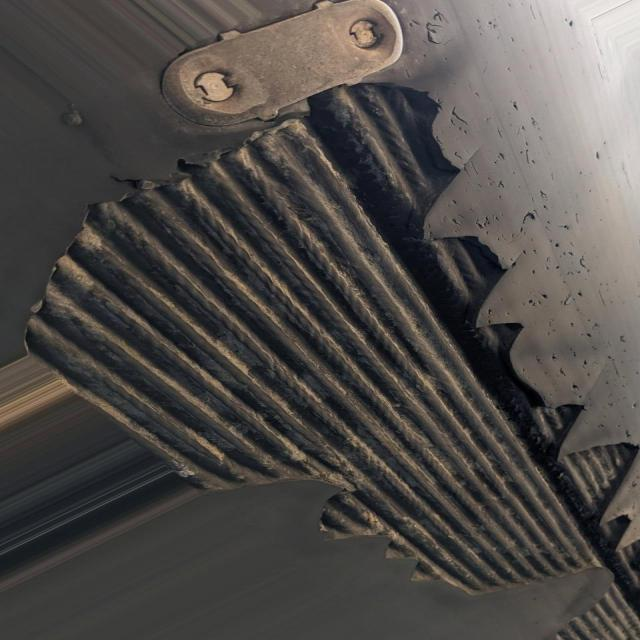Tear: (19, 80, 640, 640)
